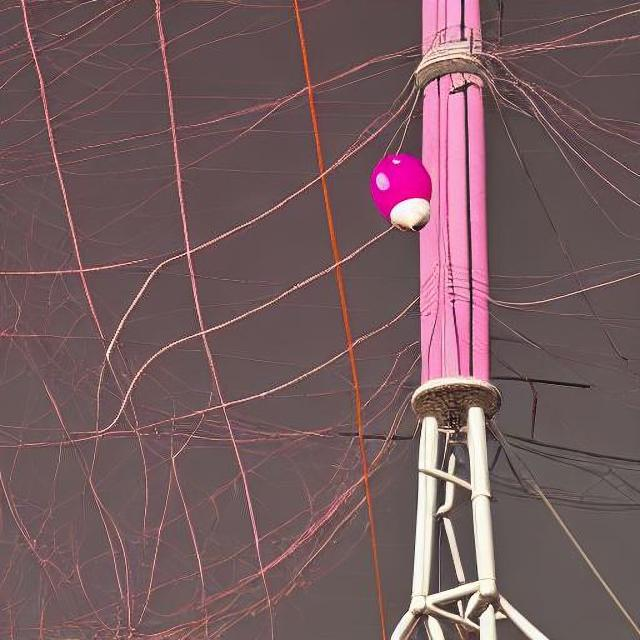plastic bag: (367, 149, 433, 230)
